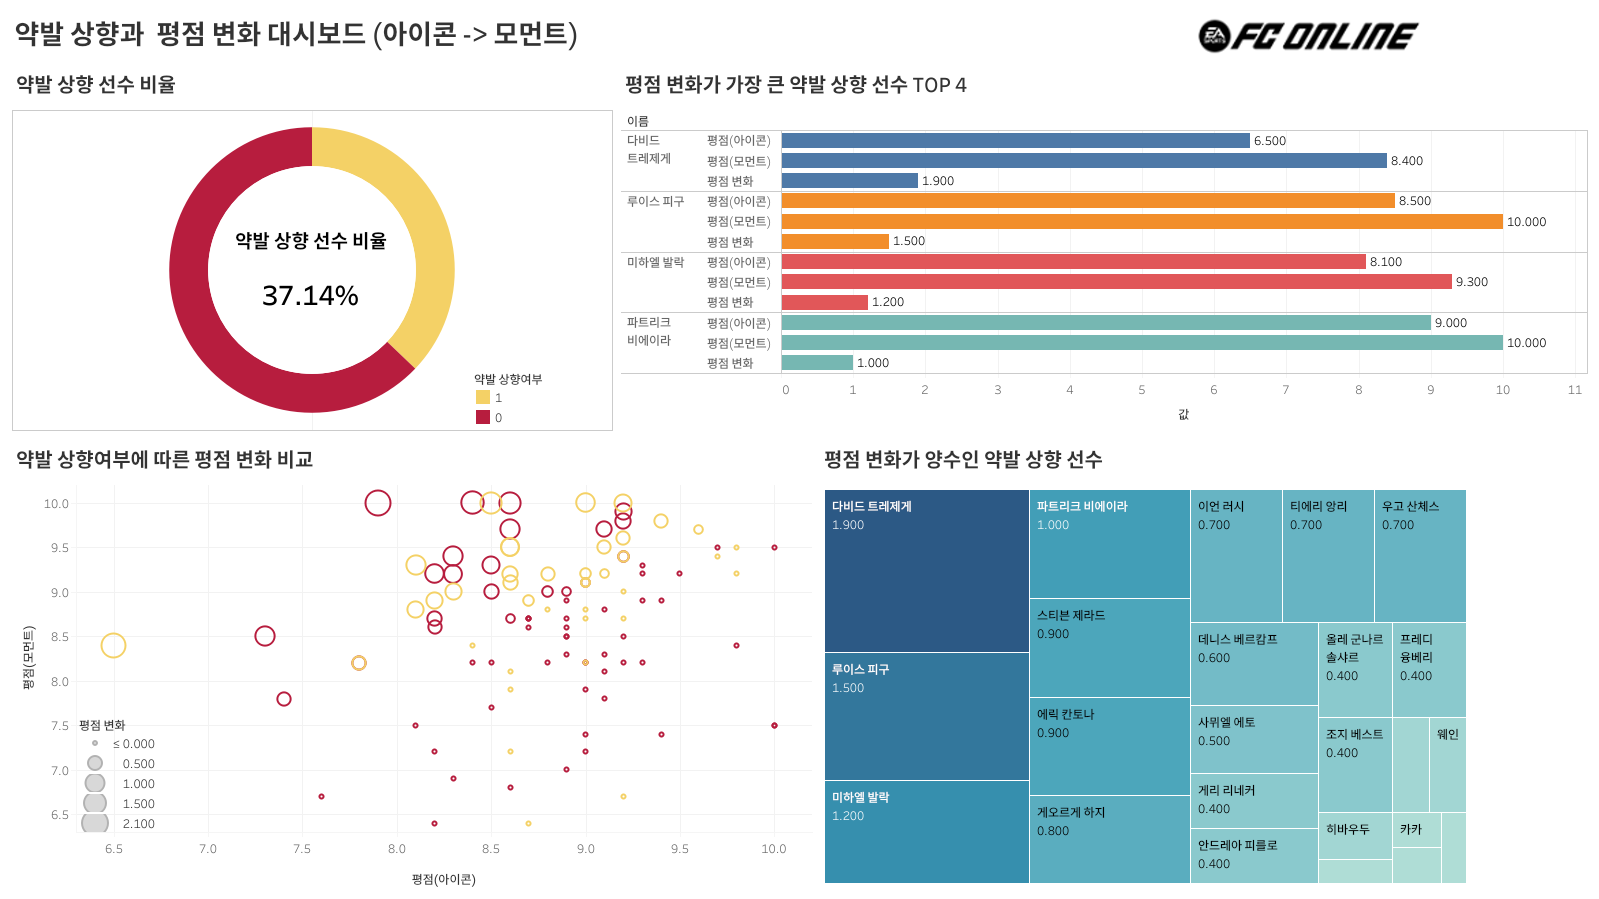

What the dashboard file says about the page in this screenshot:
{"tool":"tableau","page":{"name":"대시보드 1","canvas":[1600,900],"ordinal":0},"visuals":[{"type":"title","box":[8,8,1584,52]},{"type":"image","param":"Image/화면 캡처 2024-10-26 225130.png","box":[1191,15,239,41]},{"type":"worksheet","title":"시트 1","mark":"Pie","cols":["Calculation_3099883926213566465","Calculation_3099883926213566465"],"box":[8,60,609,374.8]},{"type":"worksheet","title":"시트 2","mark":"Automatic","rows":["이름"],"box":[617,60,975,374.8]},{"type":"legend","title":"시트 1","param":"[federated.0voxg5312l0zxy1fu6xal0he6iik].[none:약발 상향여부:ok]","box":[473,368,140,58]},{"type":"worksheet","title":"시트 4","mark":"Automatic","rows":["평점(모먼트)"],"cols":["평점(아이콘)"],"box":[8,434.8,808,457.2]},{"type":"worksheet","title":"시트 3","mark":"Automatic","box":[816,434.8,776,457.2]},{"type":"legend","title":"시트 4","param":"[federated.0voxg5312l0zxy1fu6xal0he6iik].[sum:평점 변화:qk]","box":[78,714,140,118]}]}

Visuals, with their boxes in screenshot pixels (x1, y1, x2, y2), scaled from the page's 1600x900 canvas onto the 1599x899 screenshot:
title: [left=8, top=8, right=1591, bottom=60]
image: [left=1190, top=15, right=1429, bottom=56]
"시트 1" worksheet (Pie marks): [left=8, top=60, right=617, bottom=434]
"시트 2" worksheet: [left=617, top=60, right=1591, bottom=434]
"시트 1" legend: [left=473, top=368, right=613, bottom=426]
"시트 4" worksheet: [left=8, top=434, right=815, bottom=891]
"시트 3" worksheet: [left=815, top=434, right=1591, bottom=891]
"시트 4" legend: [left=78, top=713, right=218, bottom=831]
